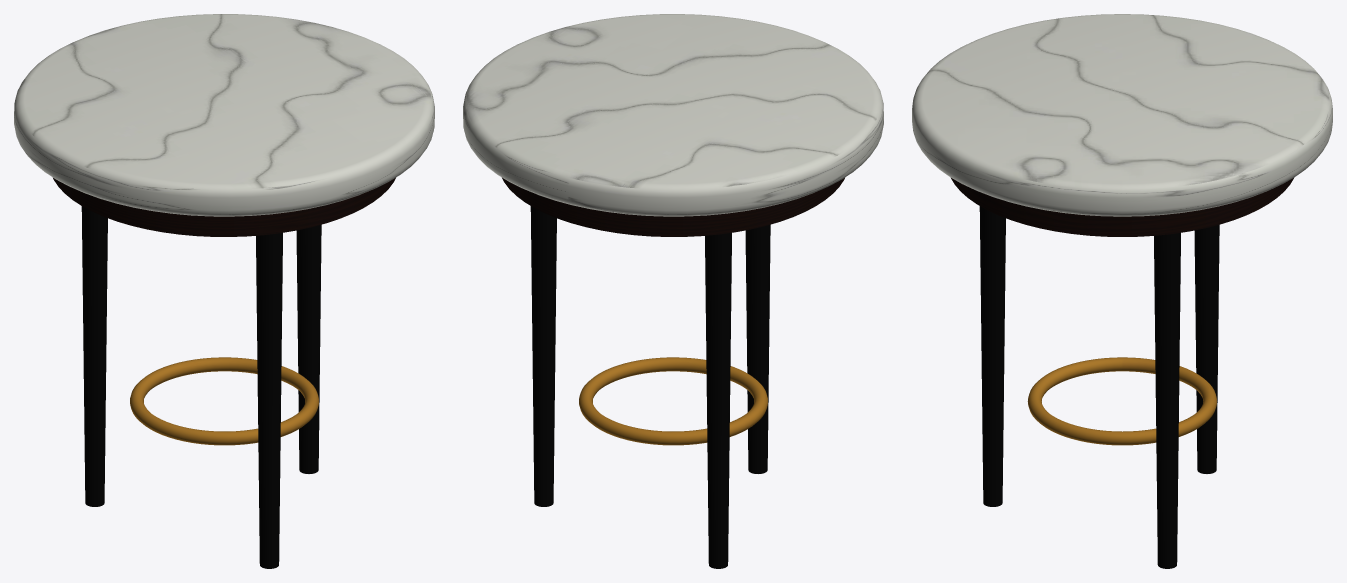
File: razoredge-modern-side-table.glb
The picture shows the model from 3 angles, left to right: view 1: azimuth 30°, elevation 25°; view 2: azimuth 150°, elevation 25°; view 3: azimuth 270°, elevation 25°; orthographic projection.
Parts seen in each view (by area): view 1: top, leg.002, leg.001, apron, ring, leg; view 2: top, leg.001, leg, apron, ring, leg.002; view 3: top, leg, leg.002, apron, ring, leg.001.
Part boxes in pixels (bbox=[...]): top: bbox=[14, 14, 434, 216]; leg.002: bbox=[256, 233, 282, 568]; leg.001: bbox=[81, 206, 107, 506]; apron: bbox=[53, 177, 395, 236]; ring: bbox=[130, 357, 318, 445]; leg: bbox=[296, 224, 321, 473]; top: bbox=[463, 14, 883, 216]; leg.001: bbox=[705, 233, 731, 568]; leg: bbox=[530, 206, 556, 506]; apron: bbox=[502, 177, 844, 236]; ring: bbox=[579, 357, 767, 445]; leg.002: bbox=[745, 224, 770, 473]; top: bbox=[912, 14, 1332, 216]; leg: bbox=[1154, 233, 1180, 568]; leg.002: bbox=[979, 206, 1005, 506]; apron: bbox=[951, 178, 1293, 236]; ring: bbox=[1027, 357, 1217, 445]; leg.001: bbox=[1194, 225, 1219, 473].
Size of the model in its own units: 0.48 by 0.52 by 0.48.
Materials: 4 (3 with a texture image).
